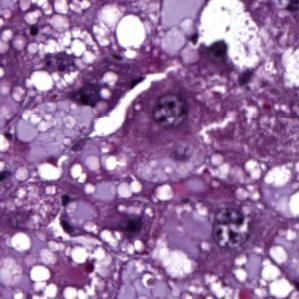ballooning: (14, 97, 96, 169)
